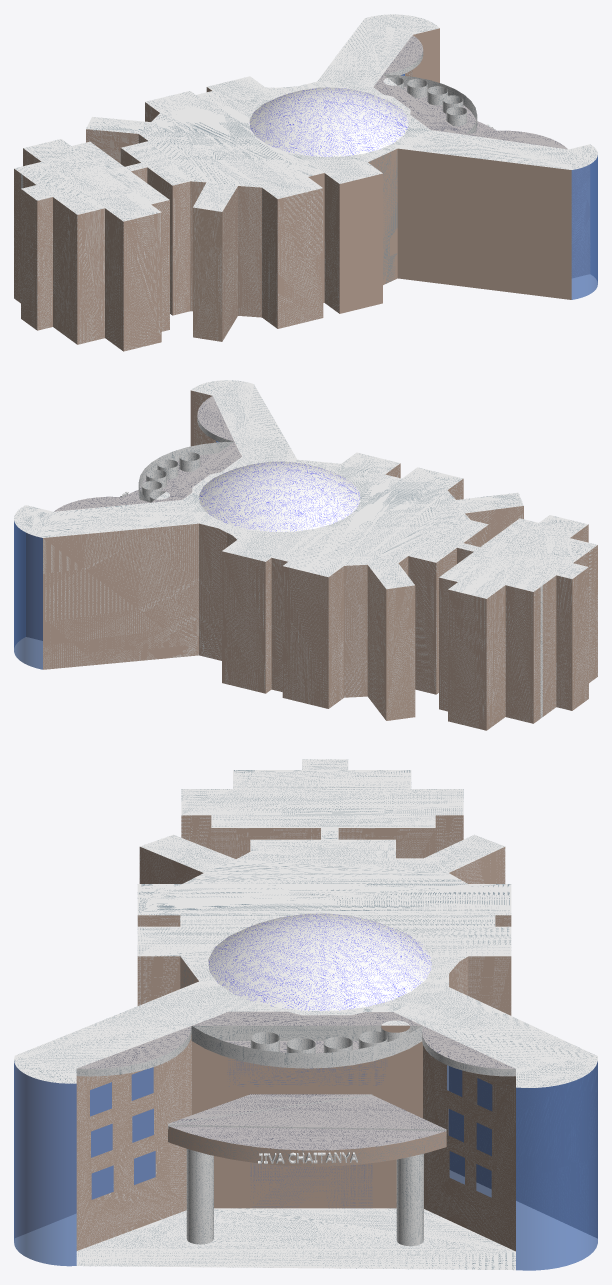
Rendered from jvc.fbx.
The picture shows the model from 3 angles, top to bottom: view 1: azimuth 30°, elevation 25°; view 2: azimuth 150°, elevation 25°; view 3: azimuth 270°, elevation 25°; orthographic projection. The views are drawn at different scales.
Visible parts, largest first — view 1: Model; view 2: Model; view 3: Model, JIVA_CHAITANYA1.
Part boxes in pixels (box(x1,y1,x2,y2)): Model: box(14, 14, 597, 351); Model: box(14, 380, 597, 730); Model: box(14, 759, 597, 1270); JIVA_CHAITANYA1: box(258, 1152, 357, 1163).
Bounding box in the file's own units: 2222 × 677 × 1668.
